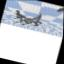drone: (12, 7, 44, 29)
